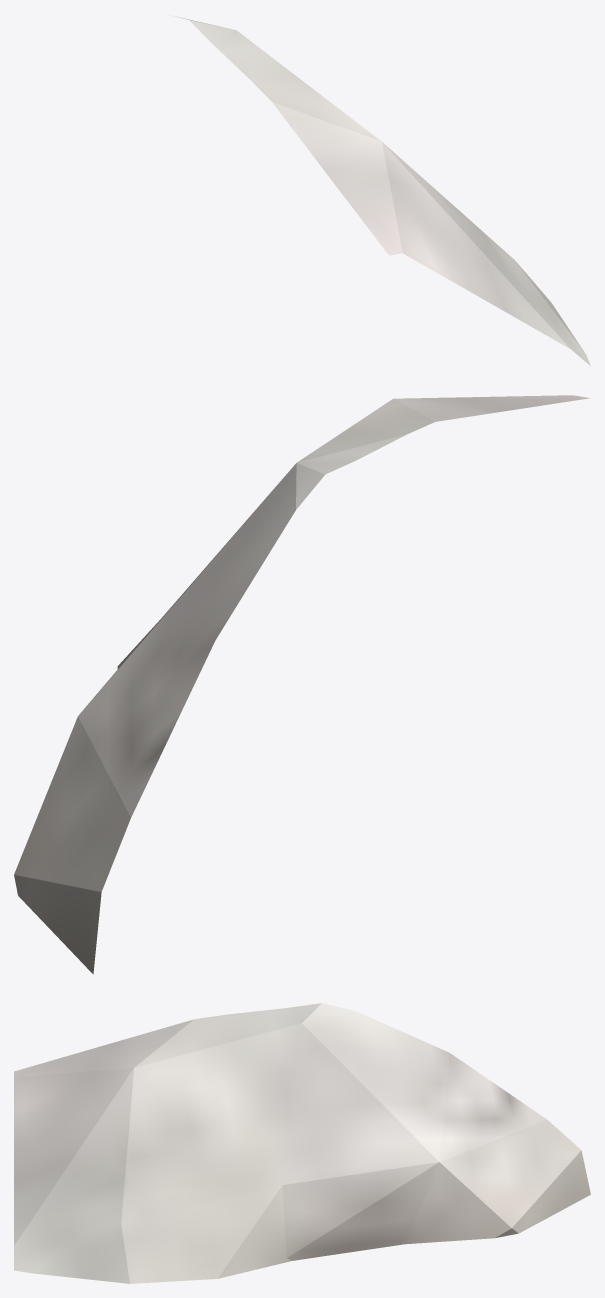
3 renders of one model, top to bottom at view 1: azimuth 30°, elevation 25°; view 2: azimuth 150°, elevation 25°; view 3: azimuth 270°, elevation 25°, orthographic. The views are drawn at different scales.
Bounding box in the file's own units: 0.1188 × 0.1189 × 0.3246.
Materials: 1 (1 with a texture image).
